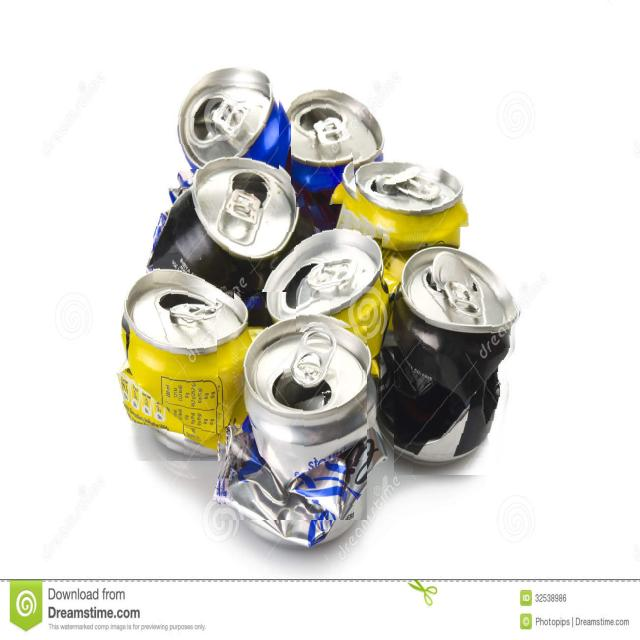Cans: (216, 298, 367, 520), (394, 278, 522, 475), (112, 282, 234, 461), (153, 177, 297, 292), (161, 76, 279, 170), (291, 78, 374, 208), (352, 150, 469, 236), (296, 228, 383, 333)
